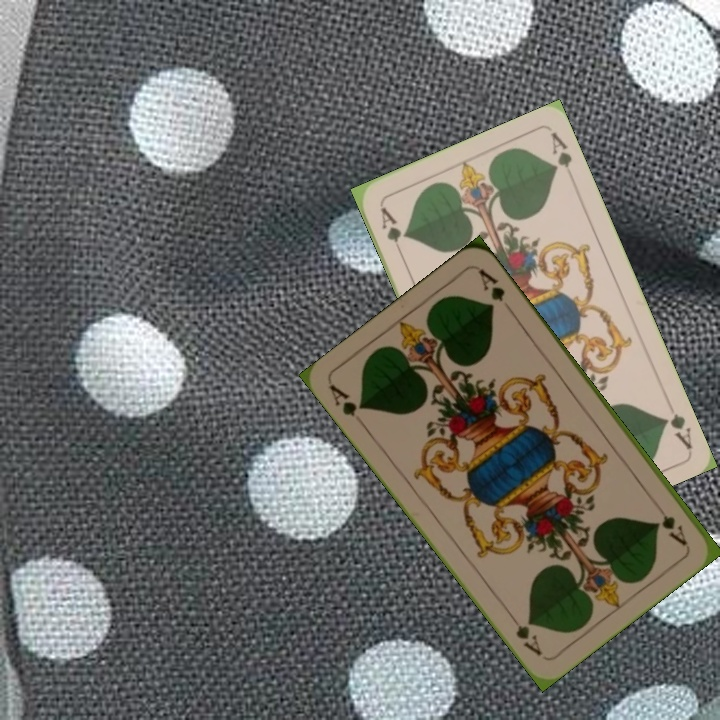GA: (649, 497, 690, 548), (376, 202, 407, 258), (325, 380, 367, 420), (659, 410, 695, 451)
